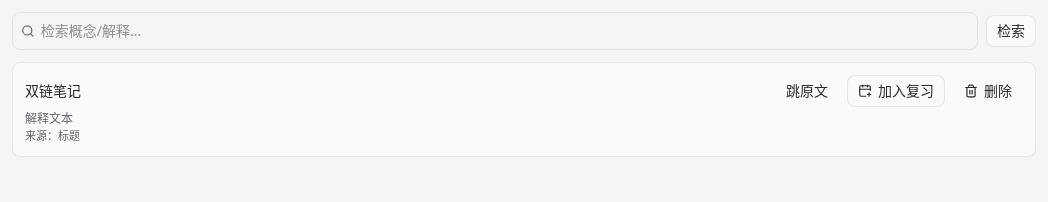
Test: N076/N077 复习页签 › N076 知识卡片管理器：加入复习 → POST kind=knowledge_card
Click the button "加入复习" at (896, 91), box [847, 75, 945, 107]
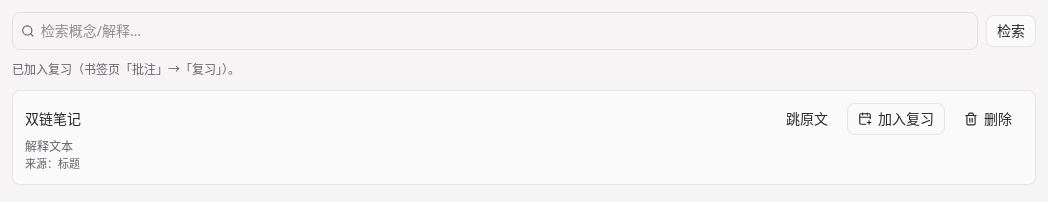
Expected: the text "已加入复习（书签页「批注」→「复习」）。" is shown, [12, 61, 240, 78]
